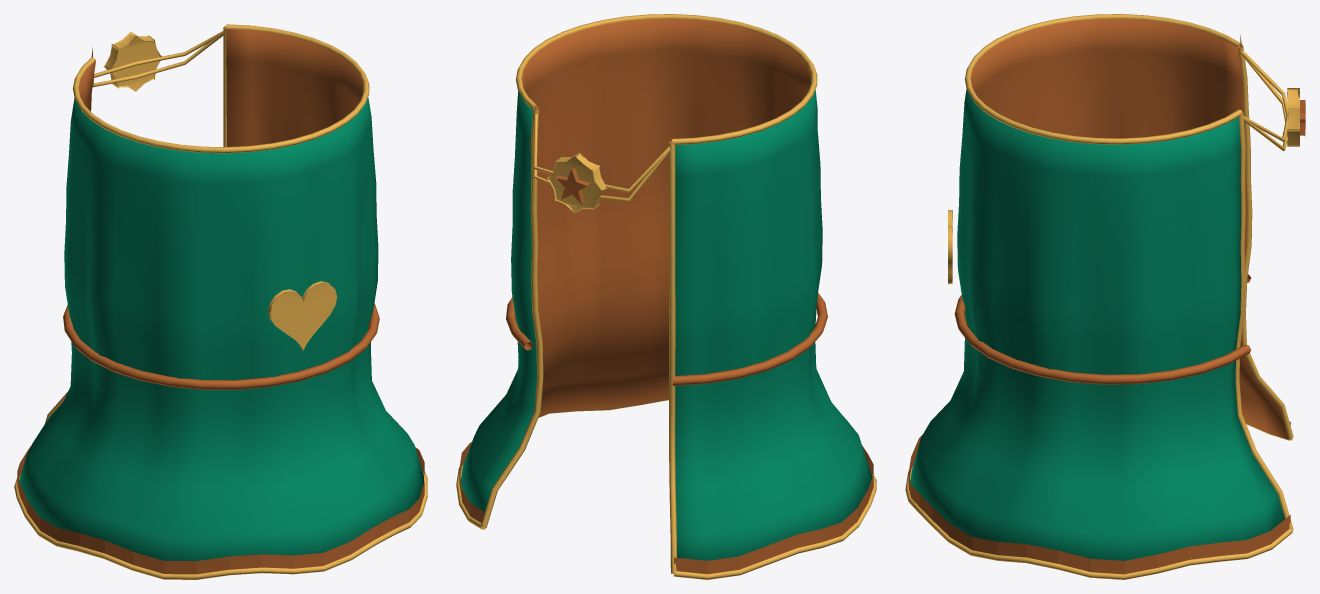
The model's file is velvet-court-king.glb.
3 renders of one model, left to right at view 1: azimuth 30°, elevation 25°; view 2: azimuth 150°, elevation 25°; view 3: azimuth 270°, elevation 25°, orthographic.
Visible parts, largest first — view 1: tailored_cloth, broad_embroidered_hem, court_sash, tailored_gold_binding, tailored_gold_binding.001, back_heraldry, brooch_gold, clasp_chain.001, clasp_chain; view 2: tailored_cloth, broad_embroidered_hem, tailored_gold_binding, tailored_gold_binding.003, tailored_gold_binding.002, court_sash, tailored_gold_binding.001, brooch_gold, clasp_chain, brooch_jewel; view 3: tailored_cloth, broad_embroidered_hem, tailored_gold_binding, court_sash, tailored_gold_binding.001, tailored_gold_binding.002, tailored_gold_binding.003, brooch_gold, clasp_chain, clasp_chain.001.
Part boxes in pixels (<box>): tailored_cloth: <box>19,29,423,561</box>; broad_embroidered_hem: <box>17,446,424,574</box>; court_sash: <box>63,303,379,389</box>; tailored_gold_binding: <box>72,24,369,153</box>; tailored_gold_binding.001: <box>14,471,427,579</box>; back_heraldry: <box>268,281,337,351</box>; brooch_gold: <box>104,32,161,91</box>; clasp_chain.001: <box>92,33,223,87</box>; clasp_chain: <box>94,31,223,77</box>; tailored_cloth: <box>461,18,872,560</box>; broad_embroidered_hem: <box>459,442,873,574</box>; tailored_gold_binding: <box>516,14,817,144</box>; tailored_gold_binding.003: <box>668,141,676,573</box>; tailored_gold_binding.002: <box>480,108,543,527</box>; court_sash: <box>506,262,827,385</box>; tailored_gold_binding.001: <box>456,399,876,579</box>; brooch_gold: <box>547,152,607,213</box>; clasp_chain: <box>533,114,670,192</box>; brooch_jewel: <box>555,168,590,203</box>; tailored_cloth: <box>910,18,1288,560</box>; broad_embroidered_hem: <box>908,421,1290,574</box>; tailored_gold_binding: <box>964,14,1242,144</box>; court_sash: <box>954,274,1251,384</box>; tailored_gold_binding.001: <box>905,423,1292,579</box>; tailored_gold_binding.002: <box>1235,111,1293,530</box>; tailored_gold_binding.003: <box>1238,45,1293,439</box>; brooch_gold: <box>1287,88,1299,146</box>; clasp_chain: <box>1240,50,1288,141</box>; clasp_chain.001: <box>1240,52,1288,151</box>.
Size of the model in its own units: 0.6451 by 0.7237 by 0.6155.
